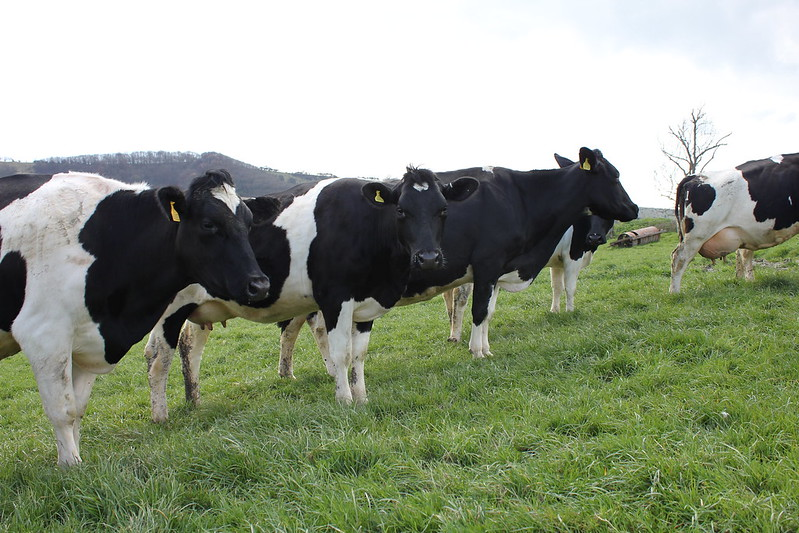cow: (1, 163, 277, 456), (248, 155, 461, 408), (443, 148, 641, 377)
